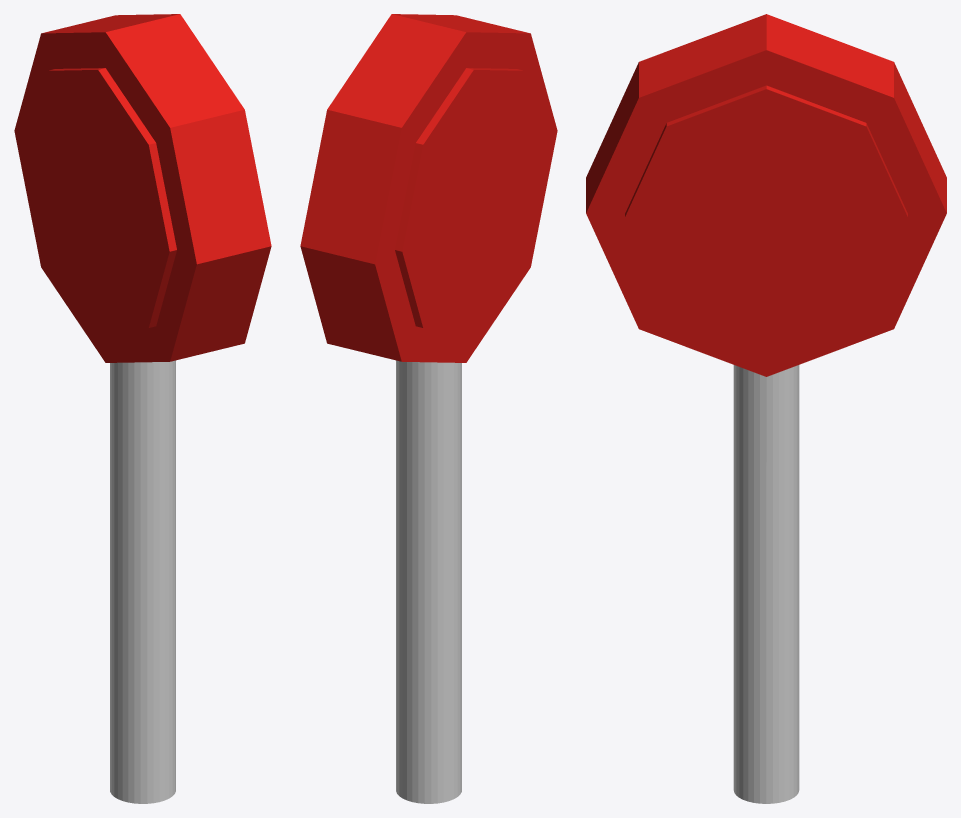
Rendered from StopSign.fbx.
3 views of the same model, side by side, from view 1: azimuth 30°, elevation 25°; view 2: azimuth 150°, elevation 25°; view 3: azimuth 270°, elevation 25° (orthographic).
Parts seen in each view (by area): view 1: Cylinder.001, Cylinder; view 2: Cylinder.001, Cylinder; view 3: Cylinder.001, Cylinder.
Boxes of the visible parts, x1,y1,x2,y2 form: Cylinder.001: (14, 14, 271, 362); Cylinder: (110, 360, 175, 803); Cylinder.001: (300, 14, 557, 362); Cylinder: (396, 360, 461, 803); Cylinder.001: (586, 14, 946, 376); Cylinder: (733, 365, 799, 803).
Size of the model in its own units: 156 by 1275 by 550.
